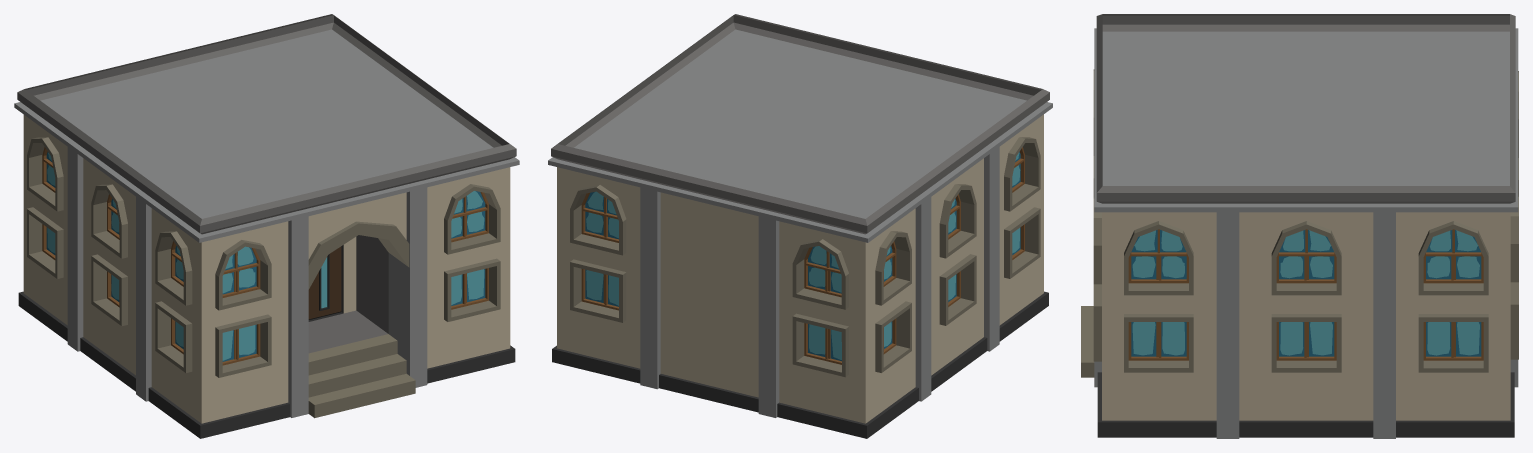
Rendered from Building_E_01.FBX.
The picture shows the model from 3 angles, left to right: view 1: azimuth 30°, elevation 25°; view 2: azimuth 150°, elevation 25°; view 3: azimuth 270°, elevation 25°; orthographic projection. The views are drawn at different scales.
Visible parts, largest first — view 1: Building_E_01; view 2: Building_E_01; view 3: Building_E_01.
Boxes of the visible parts, x1,y1,x2,y2 form: Building_E_01: [14, 14, 519, 438]; Building_E_01: [548, 14, 1052, 438]; Building_E_01: [1081, 14, 1518, 438].
Size of the model in its own units: 5.1 by 3.3 by 5.25.
